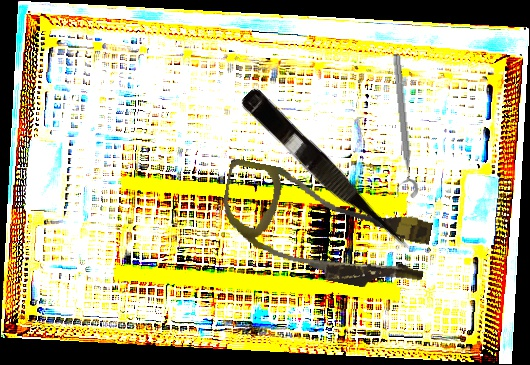Cannula: (212, 157, 438, 299)
Fixation Ring: (380, 53, 420, 201)
Micro Scissor: (235, 85, 418, 263)
